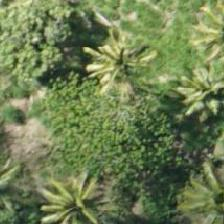coconut_tree: (74, 23, 164, 113), (30, 162, 120, 223), (167, 52, 223, 142)
